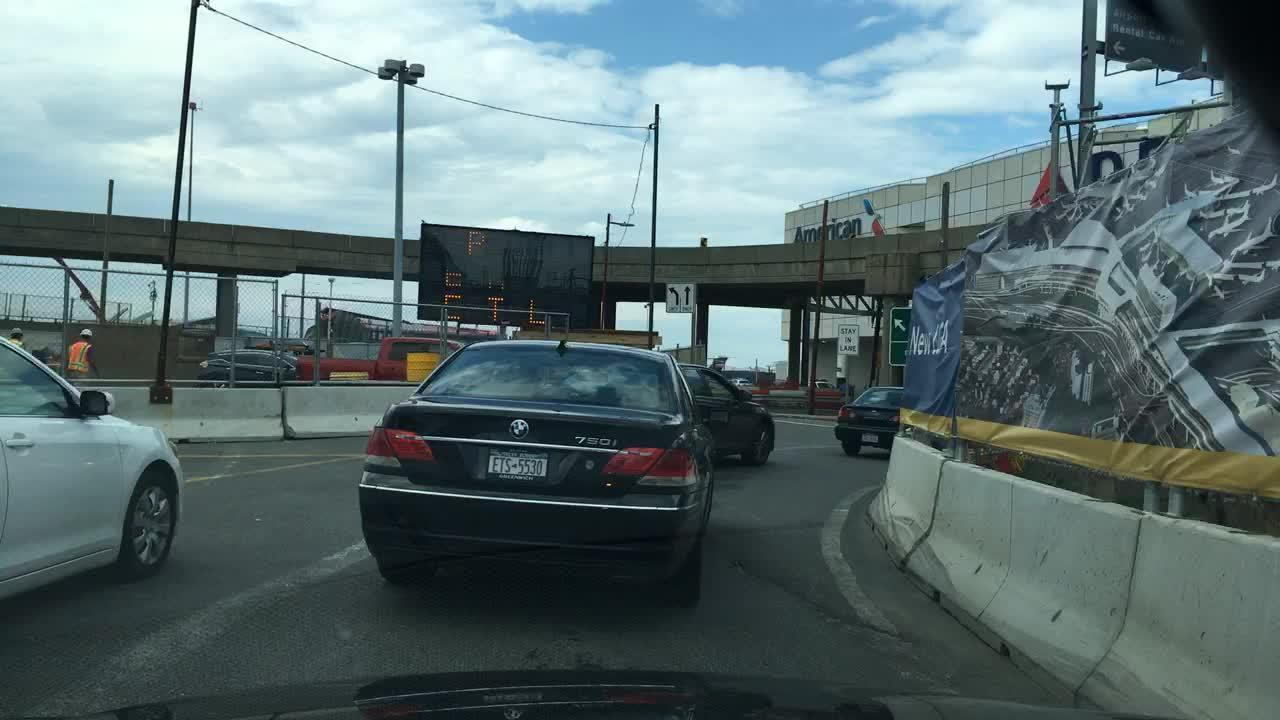bmw: (504, 412, 536, 444)
